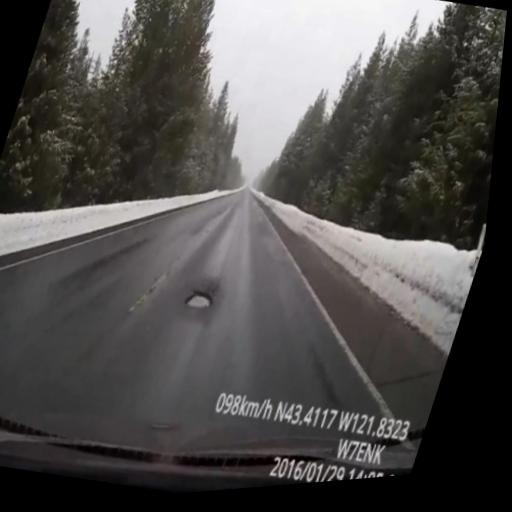pothole: (107, 152, 320, 448)
